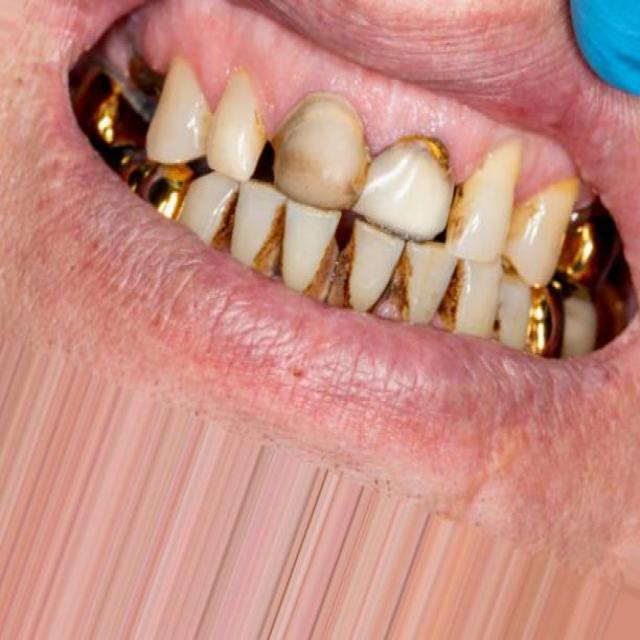caries: (418, 119, 464, 191)
